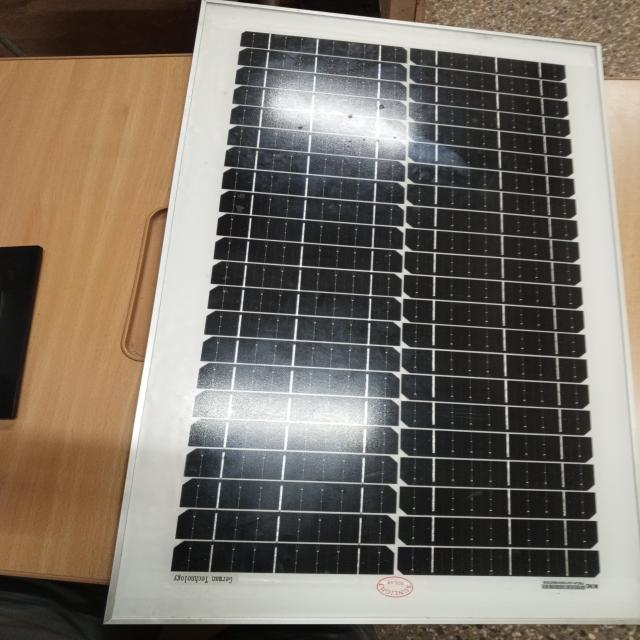Clean: (238, 35, 602, 595)
